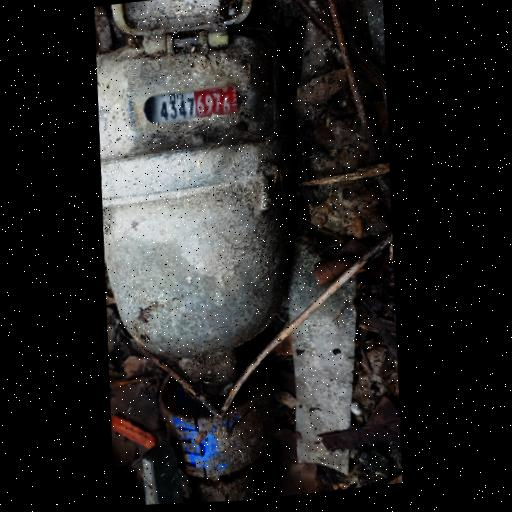3: (167, 93, 180, 121)
4: (154, 94, 171, 123), (176, 91, 189, 121)
6: (221, 85, 239, 115), (193, 90, 206, 119)
7: (212, 86, 224, 116), (185, 91, 197, 120)
9: (204, 87, 216, 117)
border_water_meter_number: (142, 84, 244, 127)
